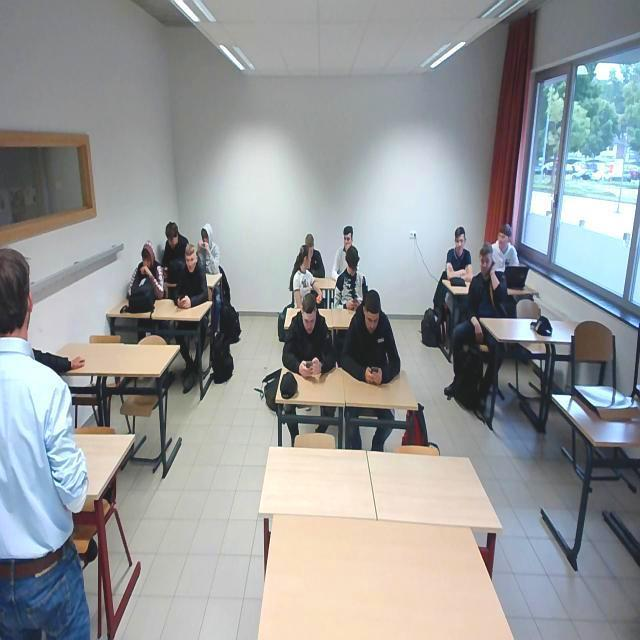Looking away: (137, 237, 161, 272), (493, 226, 519, 252), (294, 248, 316, 278)
Looking forward: (474, 246, 498, 285), (454, 224, 470, 256), (184, 248, 198, 280)
Phone use: (342, 289, 401, 386), (282, 294, 336, 378), (334, 244, 370, 314)
